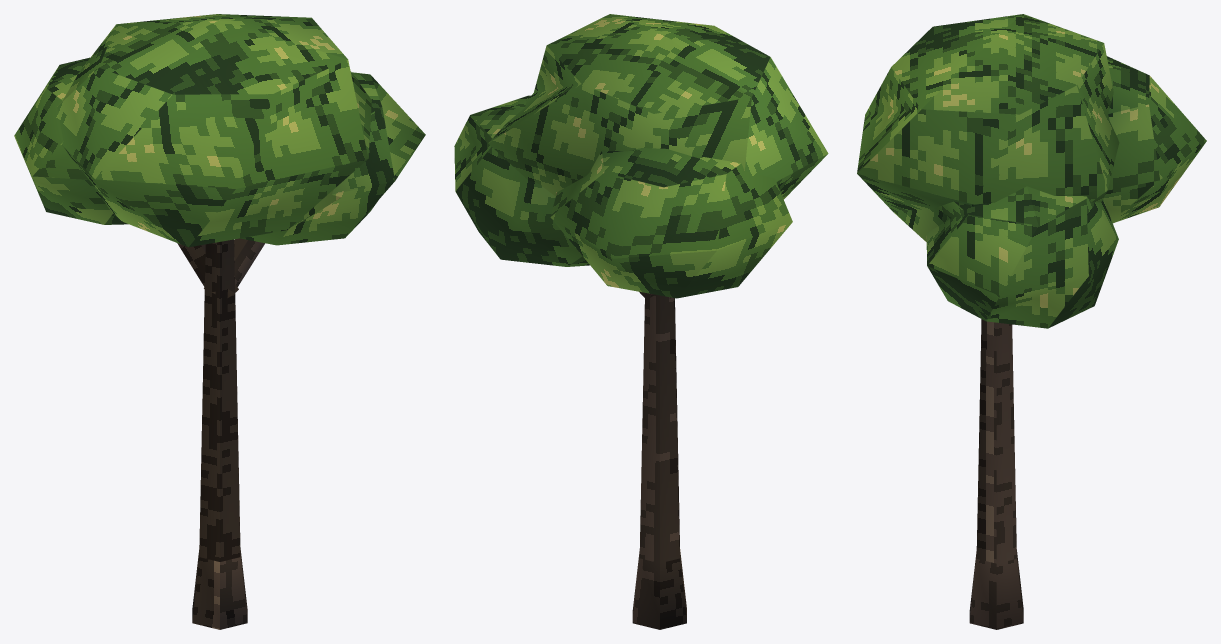
The model's file is mnat.oak__young.glb.
3 views of the same model, side by side, from view 1: azimuth 30°, elevation 25°; view 2: azimuth 150°, elevation 25°; view 3: azimuth 270°, elevation 25° (orthographic). The views are drawn at different scales.
Visible parts, largest first — view 1: kit_crown, kit_trunk; view 2: kit_crown, kit_trunk; view 3: kit_crown, kit_trunk.
Boxes of the visible parts, x1=… form: kit_crown: x1=14, y1=14, x2=425, y2=247; kit_trunk: x1=177, y1=238, x2=264, y2=629; kit_crown: x1=454, y1=14, x2=828, y2=298; kit_trunk: x1=632, y1=291, x2=686, y2=629; kit_crown: x1=857, y1=14, x2=1206, y2=328; kit_trunk: x1=969, y1=319, x2=1023, y2=629.
Bounding box in the file's own units: 2.4 × 3.7 × 2.02.
Materials: 2 (2 with a texture image).
